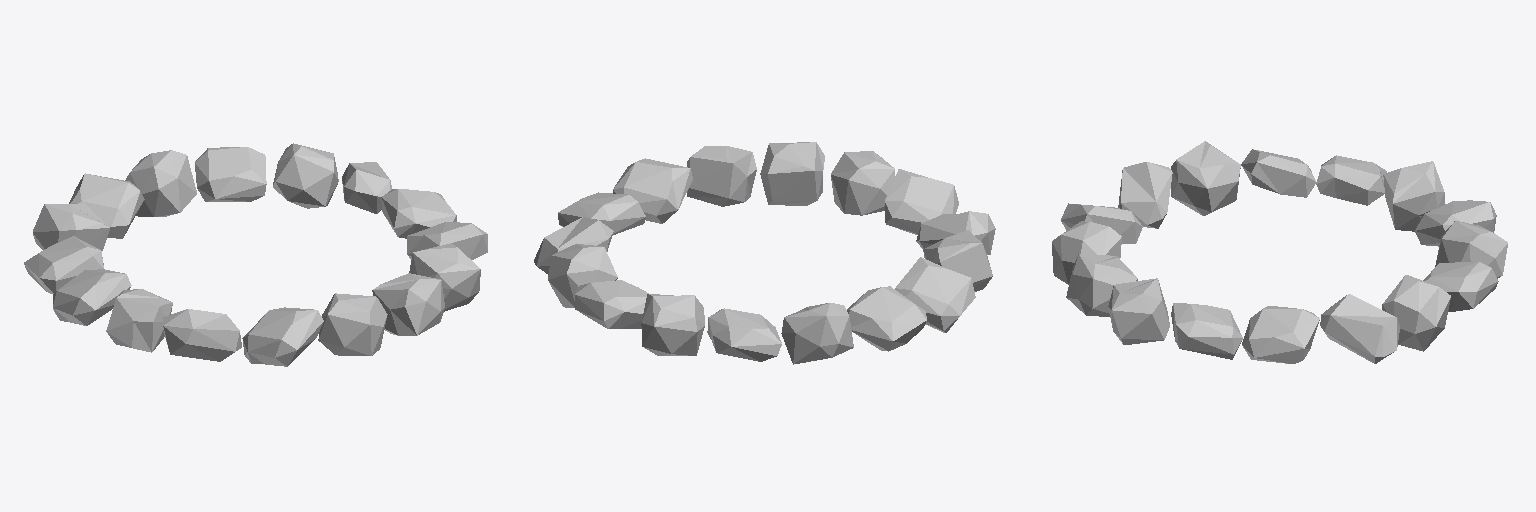
Rendered from firepit_rocks.obj.
3 renders of one model, left to right at view 1: azimuth 30°, elevation 25°; view 2: azimuth 150°, elevation 25°; view 3: azimuth 270°, elevation 25°, orthographic.
Parts seen in each view (by area): view 1: Firepit; view 2: Firepit; view 3: Firepit.
Boxes of the visible parts, x1=… form: Firepit: x1=24, y1=143, x2=487, y2=366; Firepit: x1=534, y1=142, x2=995, y2=364; Firepit: x1=1052, y1=141, x2=1507, y2=363.
Bounding box in the file's own units: 3.33 × 0.498 × 3.33.